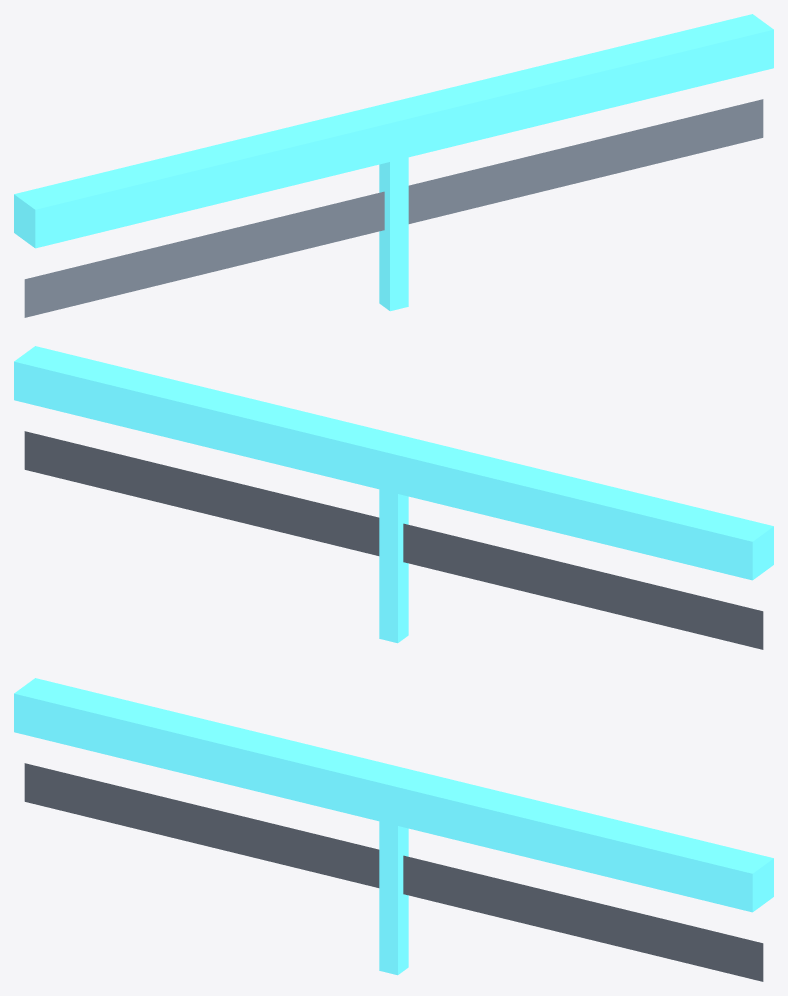
Rendered from rail_middle.glb.
3 views of the same model, one above another, from view 1: azimuth 30°, elevation 25°; view 2: azimuth 150°, elevation 25°; view 3: azimuth 330°, elevation 25° (orthographic).
Parts seen in each view (by area): view 1: rail_middle; view 2: rail_middle; view 3: rail_middle.
Part boxes in pixels (left/top/right/bottom): rail_middle: left=14, top=14, right=773, bottom=317; rail_middle: left=14, top=346, right=773, bottom=649; rail_middle: left=14, top=678, right=773, bottom=981.
Size of the model in its own units: 1 by 0.25 by 0.05.
